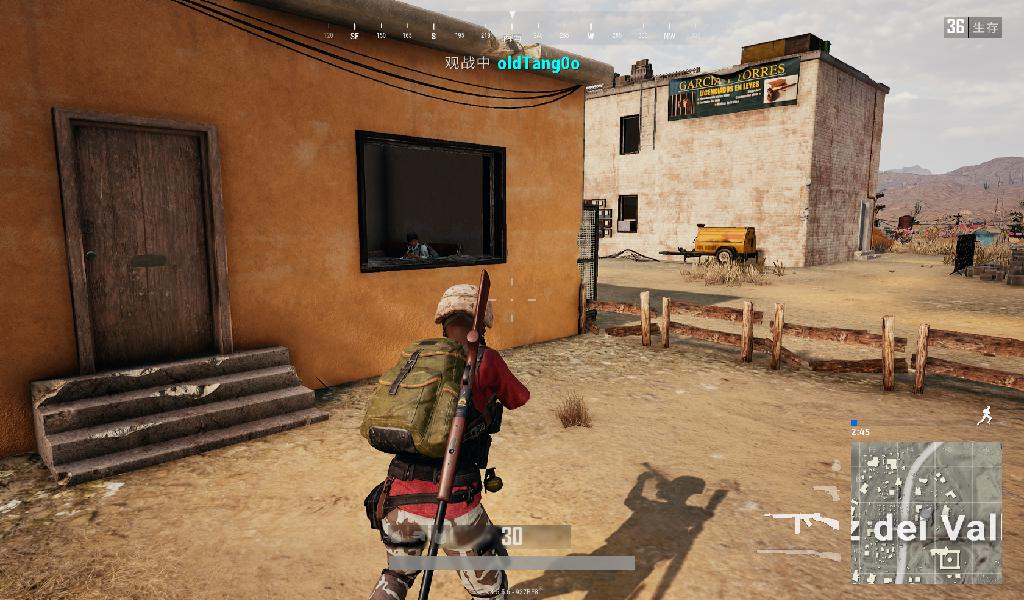Target Person: (359, 275, 511, 600), (397, 229, 438, 265)
